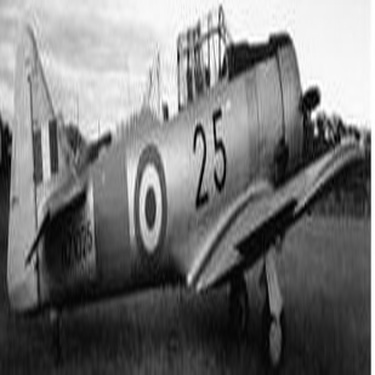airplane: (1, 2, 367, 370)
